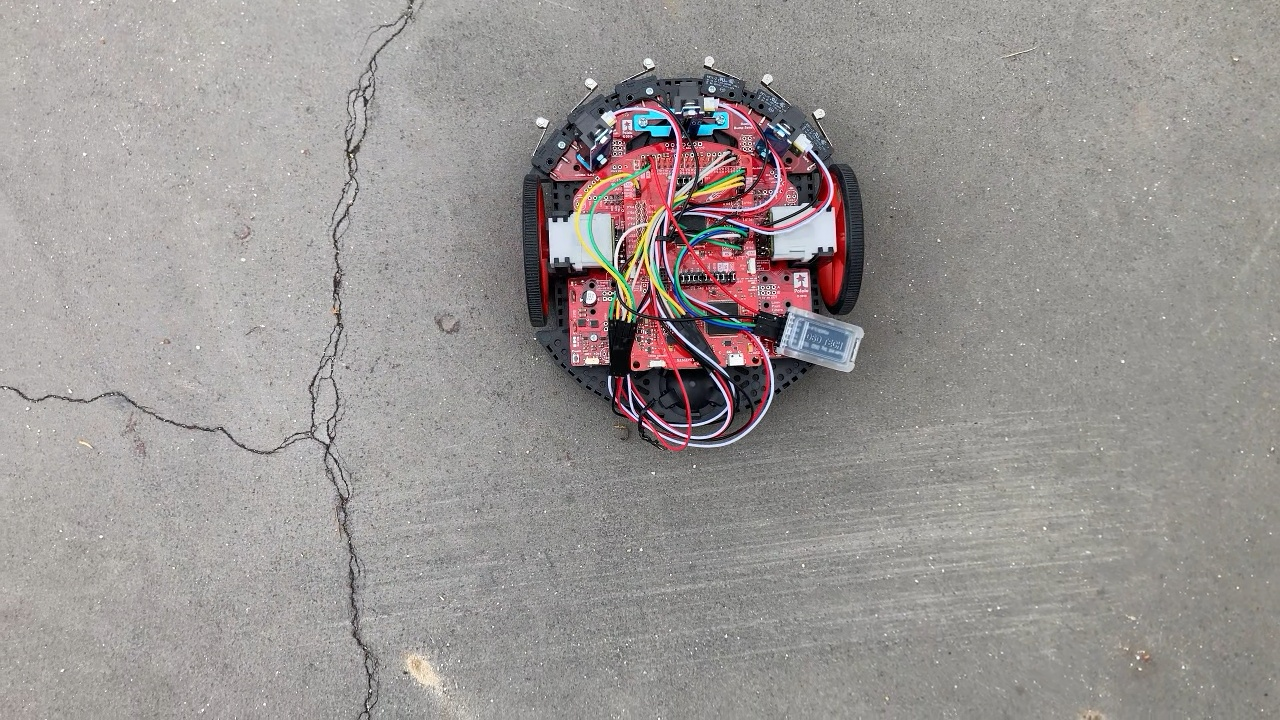robot: (519, 53, 869, 457)
